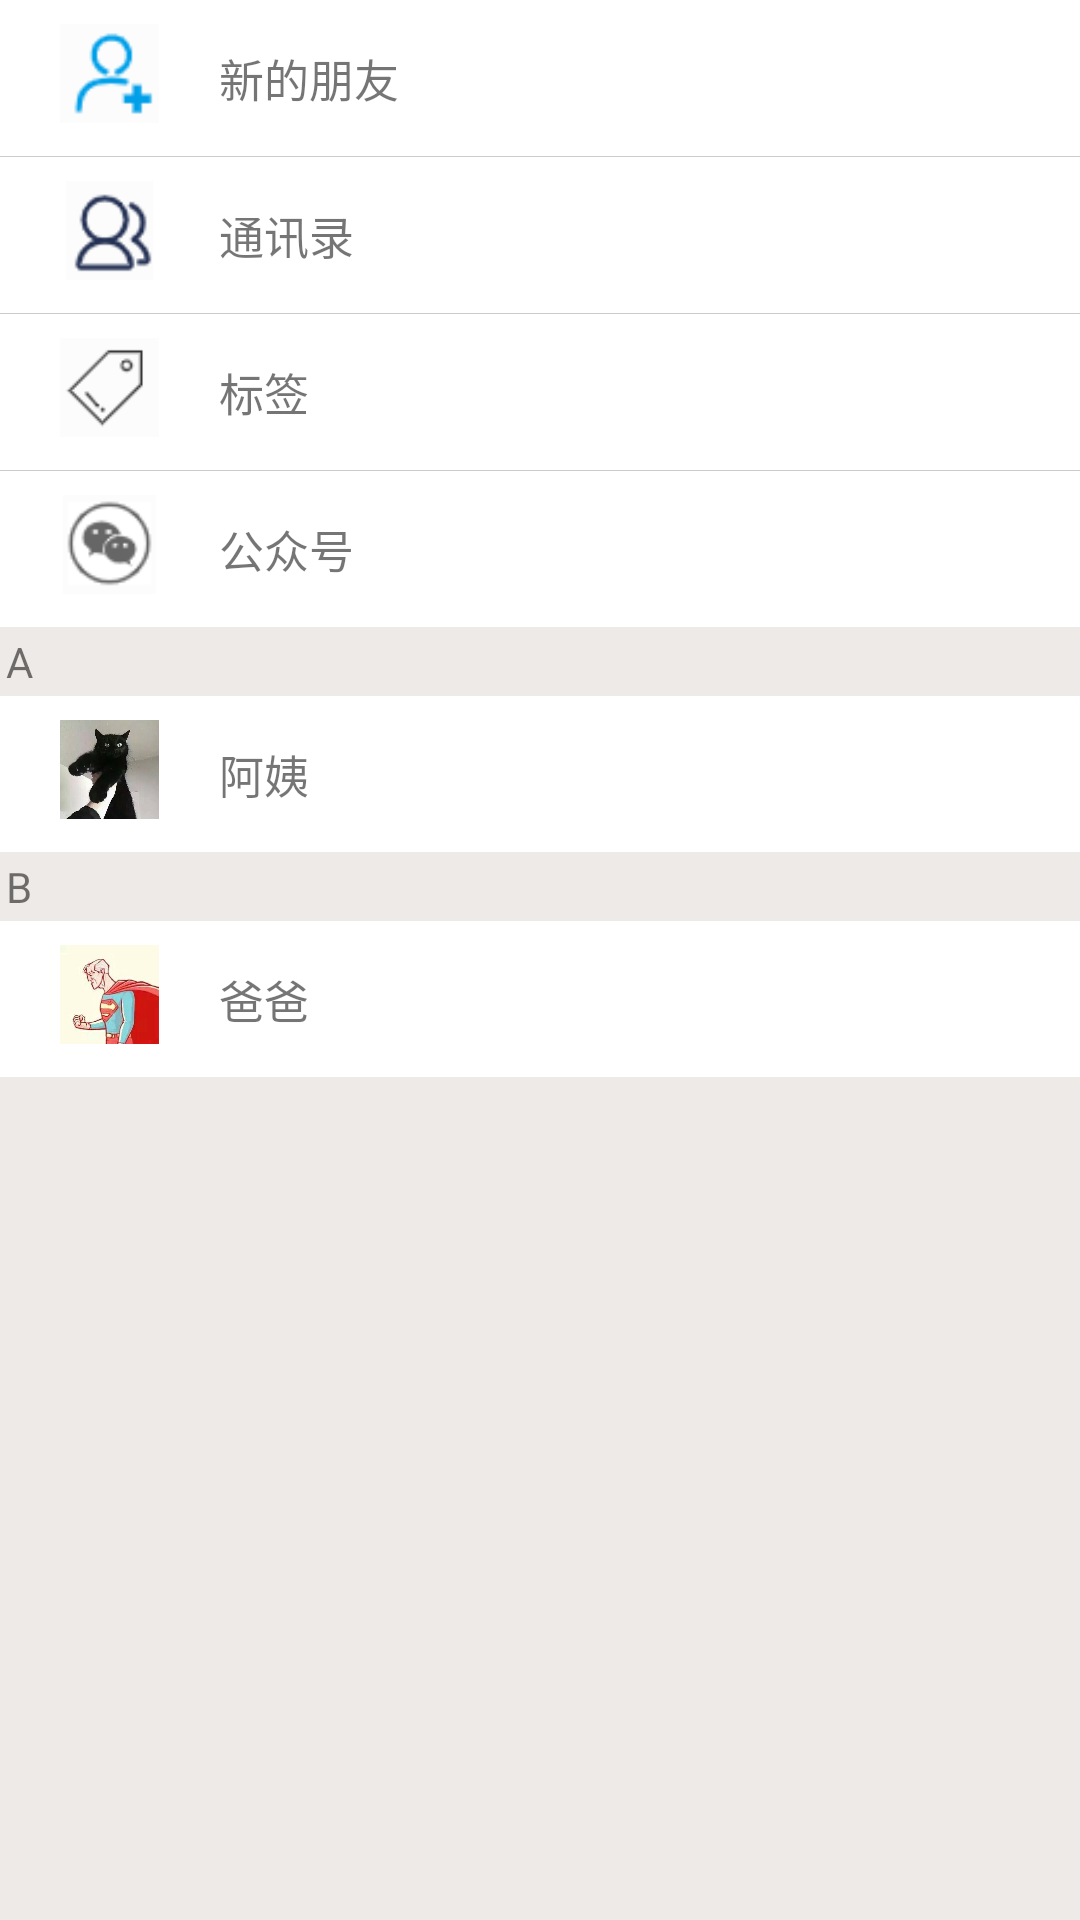

Screen size 1080x1920. Icon name, then its center in pixels as (x=x, y=y):
biaoqian: (x=105, y=388)
qunliao: (x=113, y=232)
xindepengyou: (x=113, y=73)
